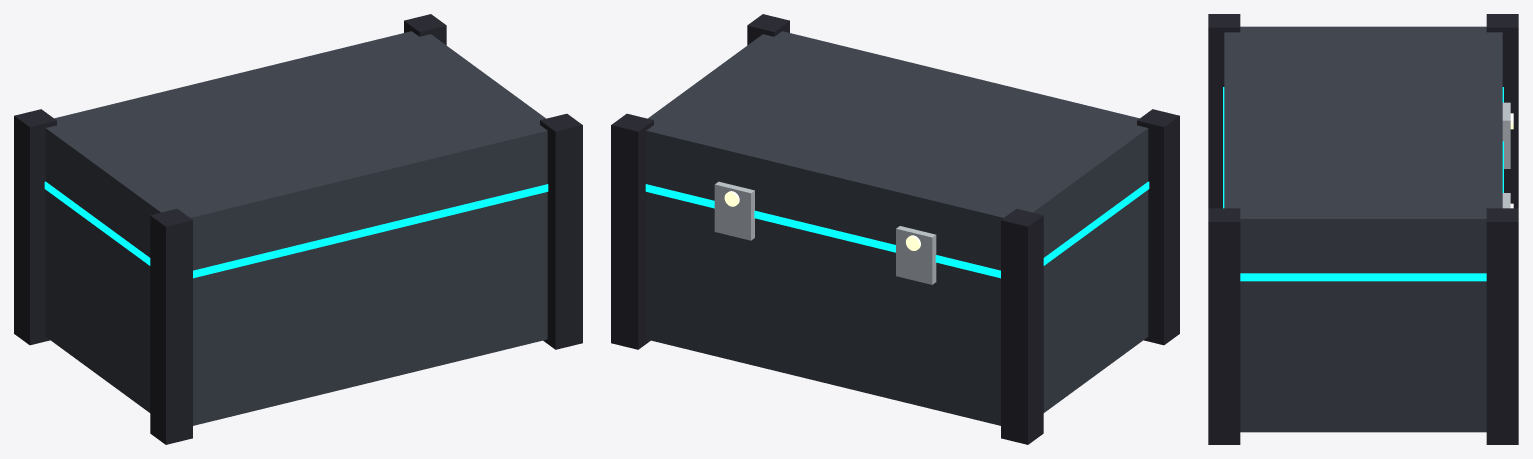
The model's file is CyberChest_Supply3D.fbx.
3 views of the same model, side by side, from view 1: azimuth 30°, elevation 25°; view 2: azimuth 150°, elevation 25°; view 3: azimuth 270°, elevation 25° (orthographic). The views are drawn at different scales.
Visible parts, largest first — view 1: Chest_MainCrate, Bumper_-0.43_-0.26, Bumper_0.43_-0.26, Bumper_-0.43_0.26, Chest_NeonSeamLight, Bumper_0.43_0.26; view 2: Chest_MainCrate, Bumper_-0.43_0.26, Bumper_0.43_0.26, Bumper_-0.43_-0.26, Chest_NeonSeamLight, Latch_Plate_0.2, Latch_Plate_-0.2, Bumper_0.43_-0.26; view 3: Chest_MainCrate, Bumper_0.43_-0.26, Bumper_0.43_0.26, Bumper_-0.43_-0.26, Bumper_-0.43_0.26, Chest_NeonSeamLight, Latch_Plate_-0.2.
Part boxes in pixels (<box>): Chest_MainCrate: <box>45,31,547,425</box>; Bumper_-0.43_-0.26: <box>150,208,192,444</box>; Bumper_0.43_-0.26: <box>540,113,582,349</box>; Bumper_-0.43_0.26: <box>14,109,56,345</box>; Chest_NeonSeamLight: <box>44,181,548,278</box>; Bumper_0.43_0.26: <box>404,14,446,45</box>; Chest_MainCrate: <box>646,31,1148,425</box>; Bumper_-0.43_0.26: <box>1001,208,1043,444</box>; Bumper_0.43_0.26: <box>611,113,653,349</box>; Bumper_-0.43_-0.26: <box>1137,109,1179,345</box>; Chest_NeonSeamLight: <box>645,181,1149,278</box>; Latch_Plate_0.2: <box>714,181,754,240</box>; Latch_Plate_-0.2: <box>896,226,936,284</box>; Bumper_0.43_-0.26: <box>747,14,789,45</box>; Chest_MainCrate: <box>1224,26,1502,432</box>; Bumper_0.43_-0.26: <box>1208,208,1240,444</box>; Bumper_0.43_0.26: <box>1486,208,1518,444</box>; Bumper_-0.43_-0.26: <box>1208,14,1240,208</box>; Bumper_-0.43_0.26: <box>1486,14,1518,208</box>; Chest_NeonSeamLight: <box>1223,87,1503,281</box>; Latch_Plate_-0.2: <box>1502,102,1510,168</box>.
Size of what is drawn, in the model's own units: 0.92 by 0.46 by 0.58.
